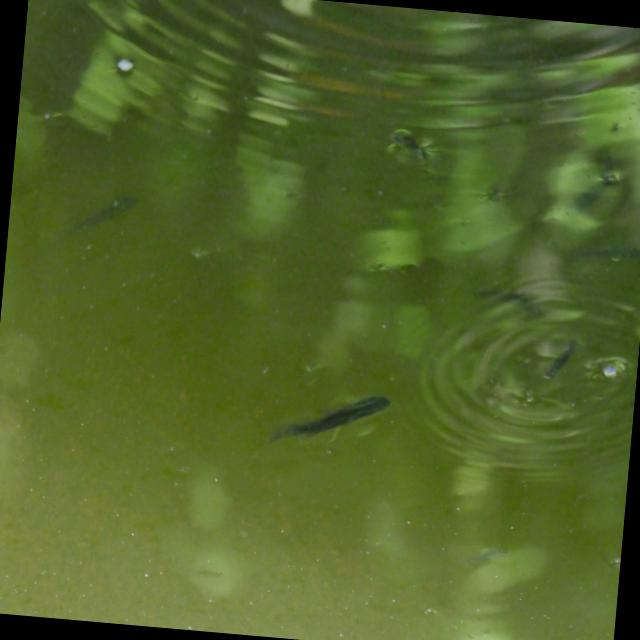Sivrisinek Baligi: (262, 368, 391, 464), (56, 178, 140, 248), (536, 336, 578, 391)
